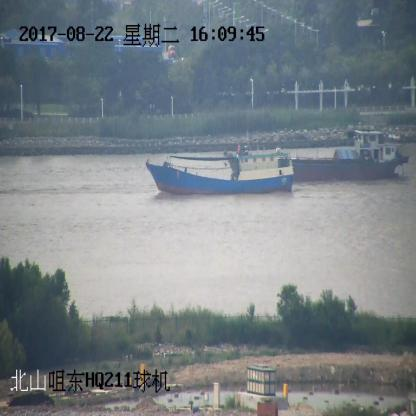Fishing Boat: (146, 144, 294, 196)
